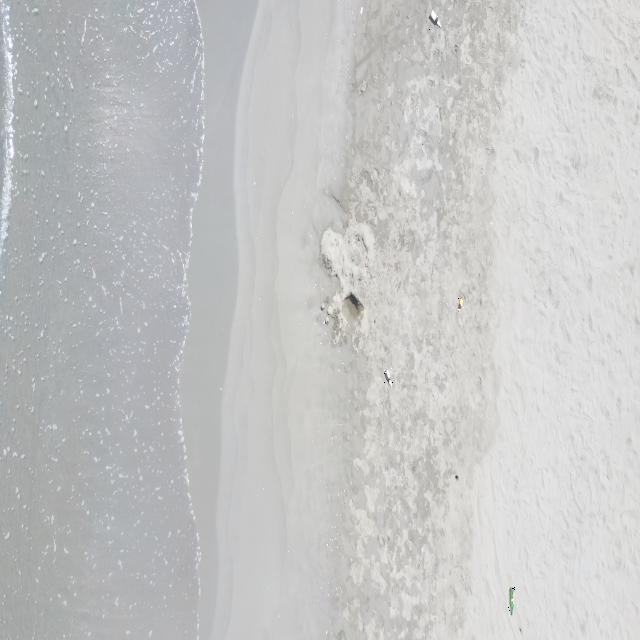glass: (429, 8, 442, 30), (508, 586, 516, 617), (384, 368, 393, 388), (458, 296, 464, 312)
